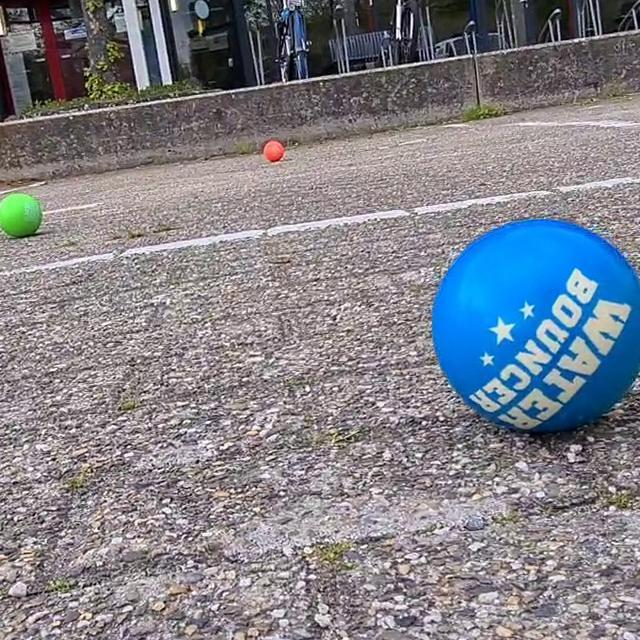ball: (1, 189, 46, 245), (262, 137, 284, 163)
